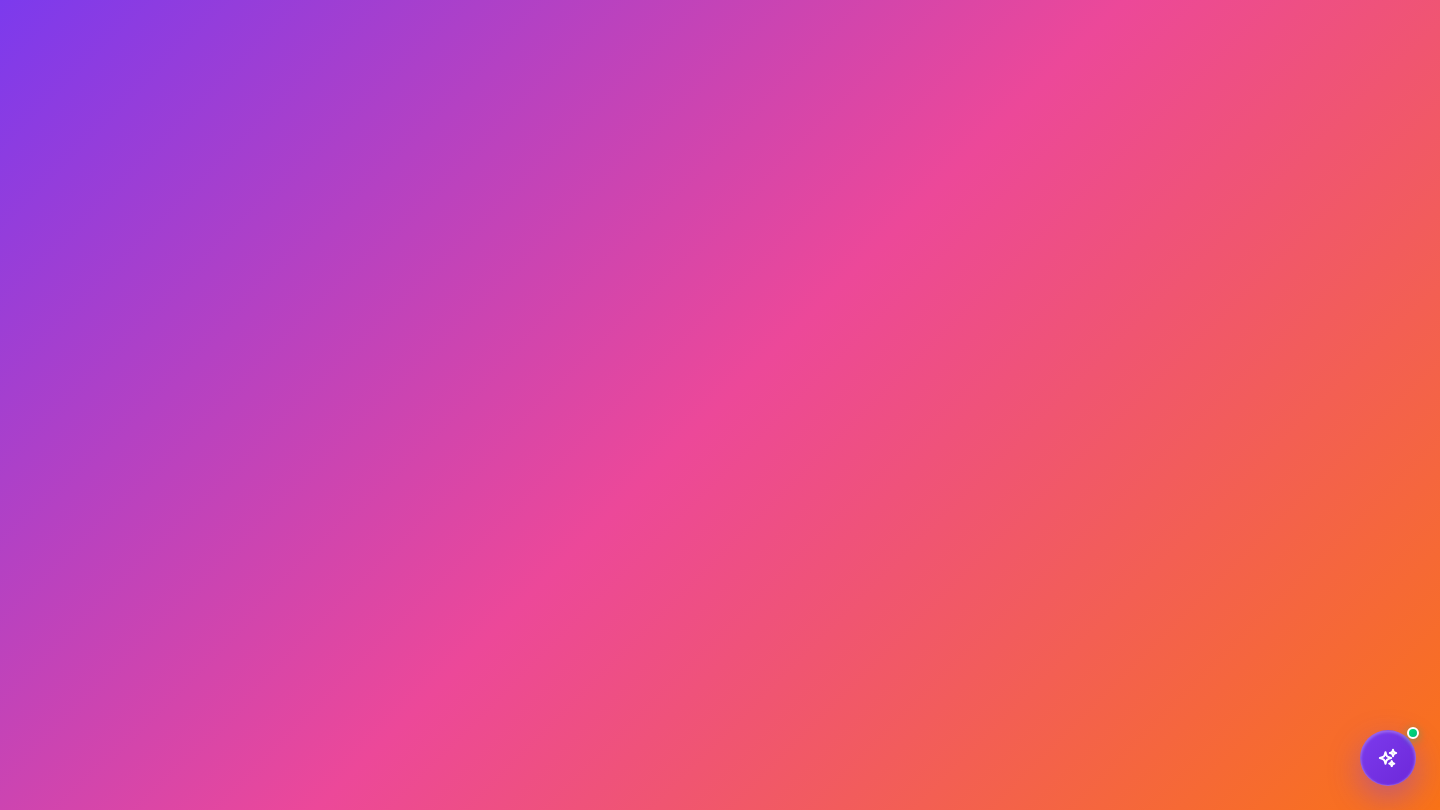
Test: ZaraAssistant › clears the conversation when using the clear chat button
The image size is (1440, 810).
Click the button named "Toggle Zara Assistant" at x=1388, y=758, box [1360, 730, 1416, 786]
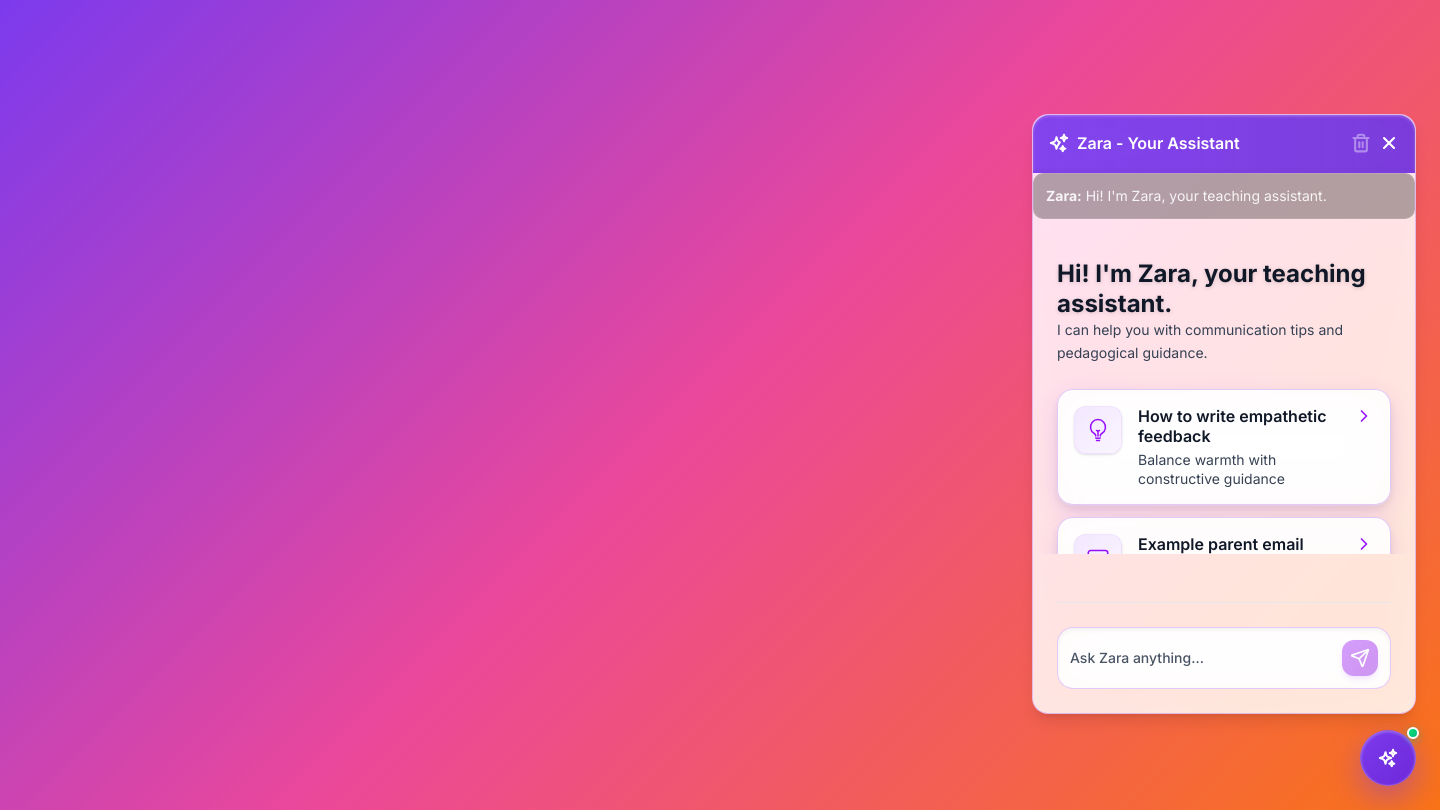
Type "Hello Zara" into the field with placeholder "Ask Zara anything..." at x=1202, y=658, box [1070, 648, 1334, 668]
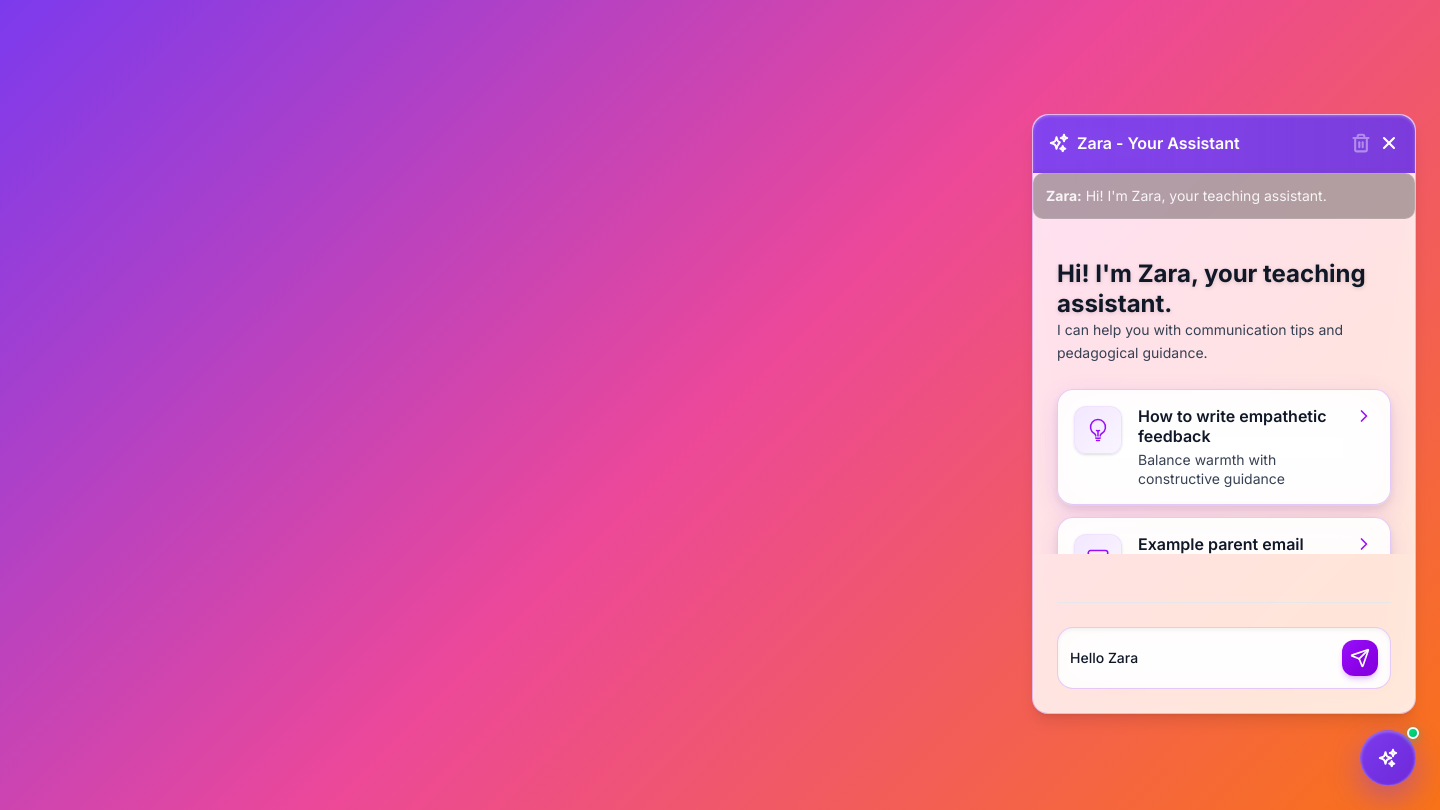
Click the button named "Send message" at x=1360, y=658, box [1342, 640, 1378, 676]
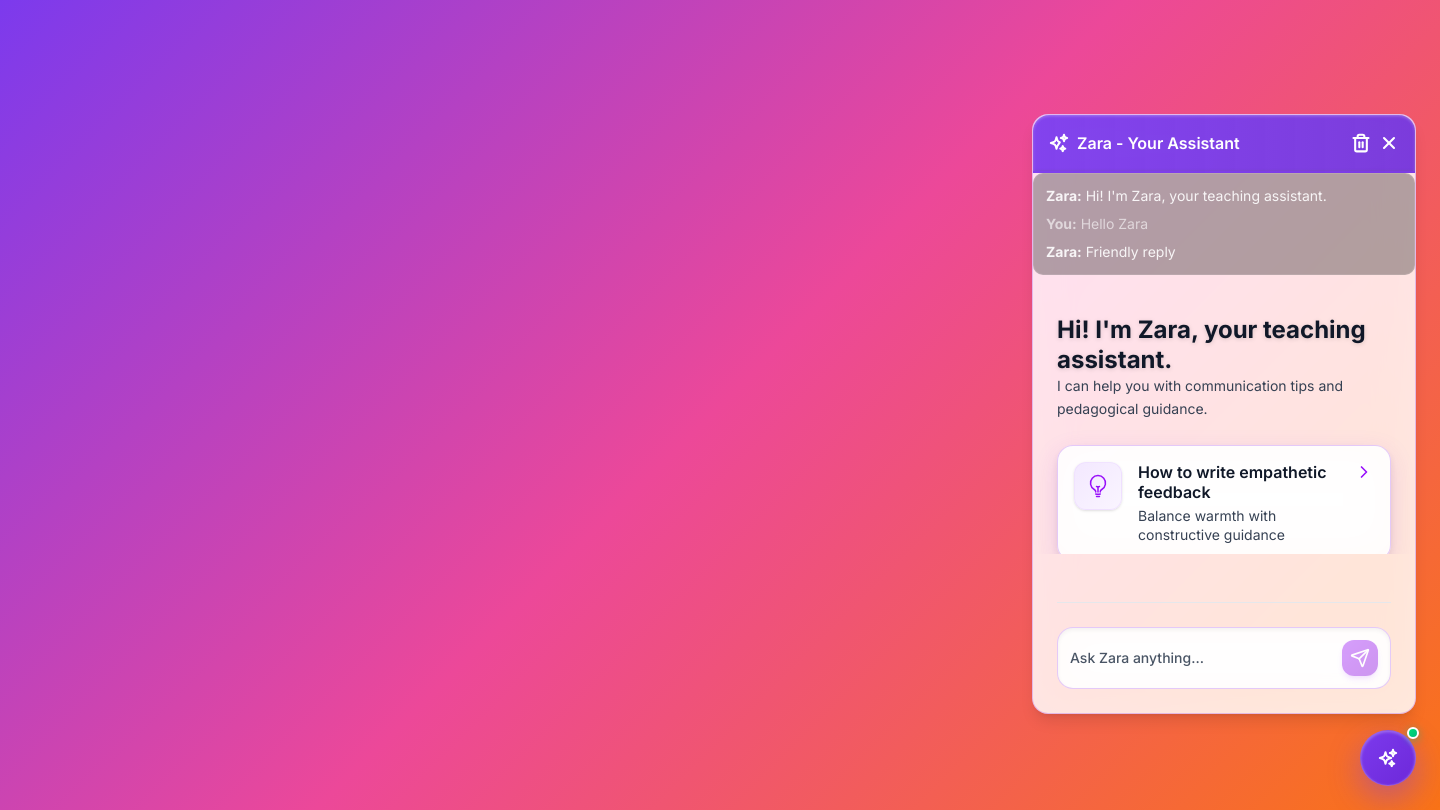
Result: the text "Hello Zara" is shown at [1081, 215, 1148, 232]
Click the button named "Clear chat" at x=1361, y=143, box [1351, 133, 1371, 153]
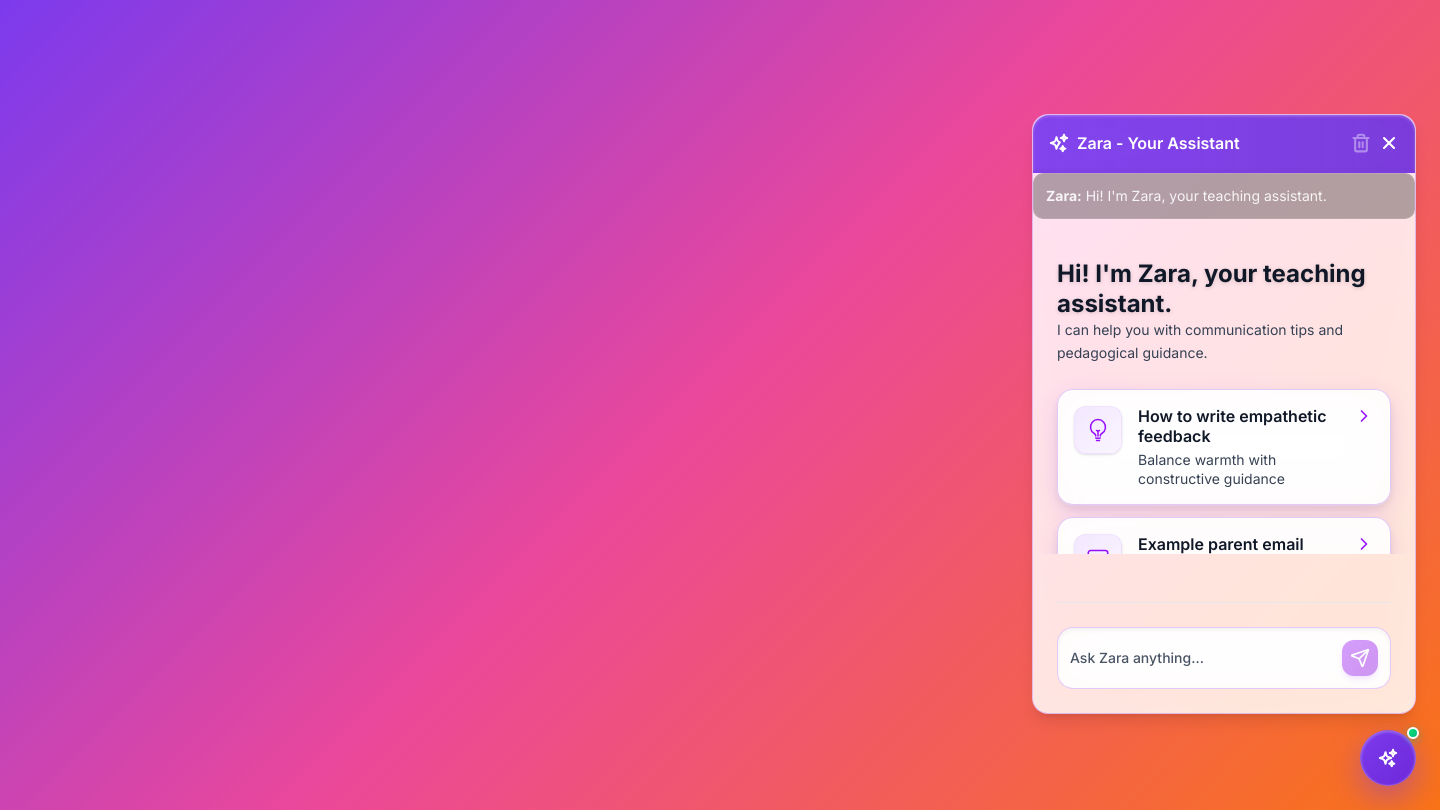
Result: the text "Hello Zara" is gone
